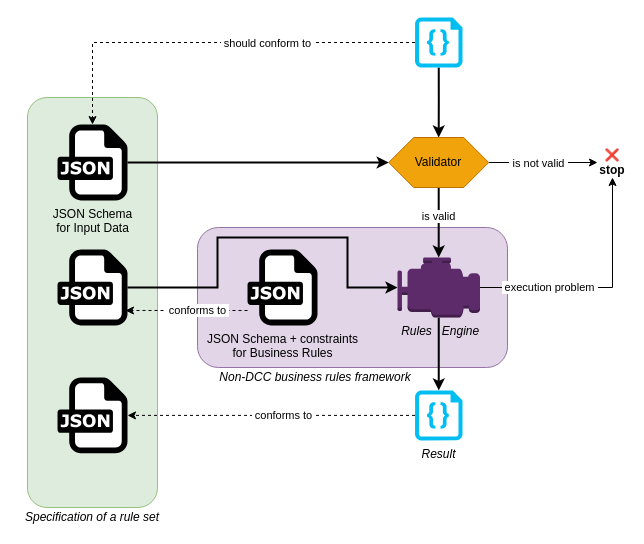
Image size: 644x544. Some labels were removed from this diagram. Each missing label, with the box of its shape:
Business Rules: (56, 249, 128, 325)
Input Data: (414, 17, 462, 67)
JSON Schema for Result: (56, 376, 128, 453)
